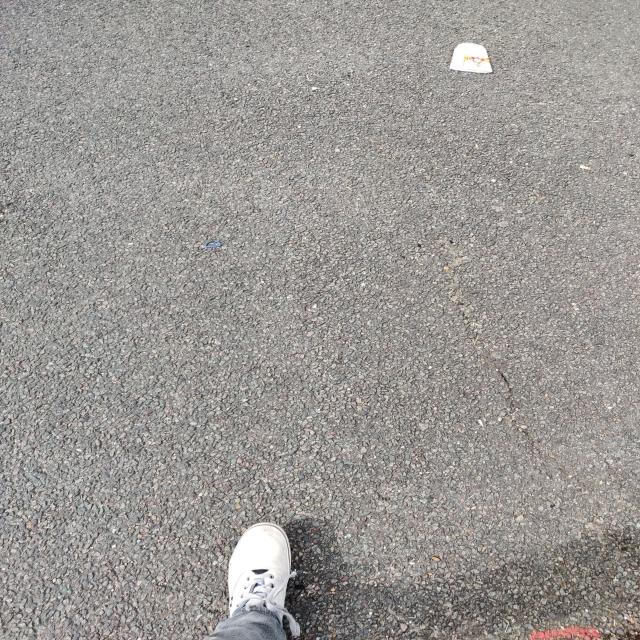litter: (225, 522, 303, 638), (447, 40, 496, 77), (201, 239, 225, 248)
